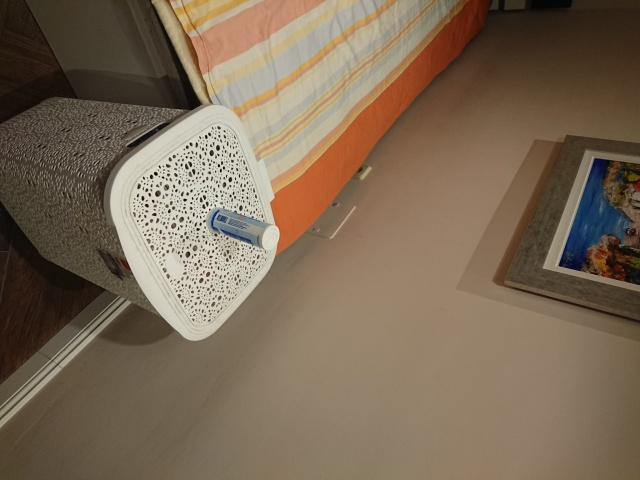Solana Pag Fine Sea Salt 250g: (204, 205, 282, 253)
